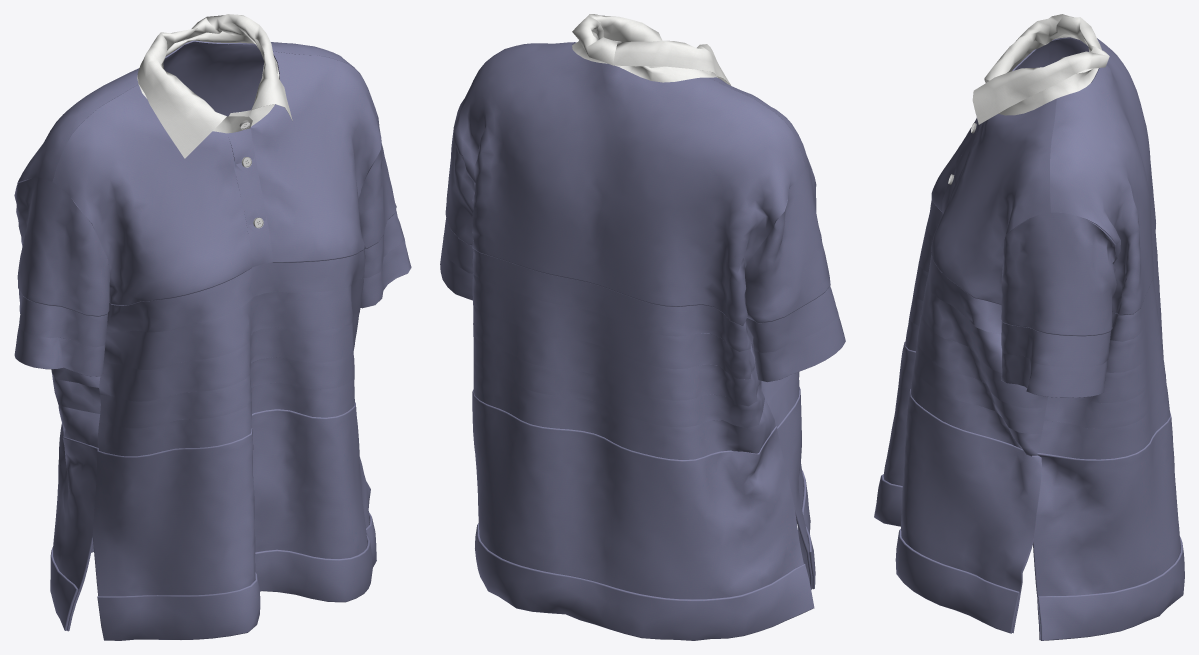
3 renders of one model, left to right at view 1: azimuth 30°, elevation 25°; view 2: azimuth 150°, elevation 25°; view 3: azimuth 270°, elevation 25°, orthographic. The views are drawn at different scales.
Parts seen in each view (by area): view 1: Pattern2D_3346071, Pattern2D_3477746, Pattern2D_3483599, Pattern2D_614027, Pattern2D_3424674, Pattern2D_420041, Pattern2D_3459562, Pattern2D_420052, Pattern2D_420022, Pattern2D_420074, Pattern2D_420063, Pattern2D_3462828 (+13 smaller); view 2: Pattern2D_3459562, Pattern2D_3462828, Pattern2D_614552, Pattern2D_430427, Pattern2D_501064, Pattern2D_430405, Pattern2D_3424674, Pattern2D_501049, Pattern2D_430416, Pattern2D_338536, Pattern2D_322252, Pattern2D_533010 (+8 smaller); view 3: Pattern2D_3346071, Pattern2D_3462828, Pattern2D_3459562, Pattern2D_3483599, Pattern2D_3420210, Pattern2D_614027, Pattern2D_614552, Pattern2D_430427, Pattern2D_533716, Pattern2D_420074, Pattern2D_420052, Pattern2D_420063 (+12 smaller).
Part boxes in pixels (x1,y1,x2,y2): Pattern2D_3346071: (92,402,370,596); Pattern2D_3477746: (53,84,251,305); Pattern2D_3483599: (250,51,381,262); Pattern2D_614027: (97,512,376,640); Pattern2D_3424674: (14,177,109,316); Pattern2D_420041: (103,278,363,369); Pattern2D_3459562: (17,40,362,183); Pattern2D_420052: (99,312,359,401); Pattern2D_420022: (106,249,365,332); Pattern2D_420074: (97,377,354,456); Pattern2D_420063: (99,341,355,428); Pattern2D_3462828: (53,424,98,590); Pattern2D_3459562: (453,42,805,325); Pattern2D_3462828: (472,389,803,599); Pattern2D_614552: (475,523,814,640); Pattern2D_430427: (473,359,775,459); Pattern2D_501064: (472,273,755,379); Pattern2D_430405: (473,302,760,406); Pattern2D_3424674: (745,167,830,323); Pattern2D_501049: (472,249,750,351); Pattern2D_430416: (473,333,764,428); Pattern2D_338536: (751,313,845,382); Pattern2D_322252: (746,286,838,352); Pattern2D_533010: (613,40,730,85); Pattern2D_3346071: (883,341,1041,592); Pattern2D_3462828: (1033,373,1180,596); Pattern2D_3459562: (1049,37,1155,315); Pattern2D_3483599: (931,98,1056,304); Pattern2D_3420210: (1000,212,1116,336); Pattern2D_614027: (874,474,1019,633); Pattern2D_614552: (1038,537,1184,640); Pattern2D_430427: (1038,339,1170,459); Pattern2D_533716: (972,45,1109,124); Pattern2D_420074: (905,318,1041,456); Pattern2D_420052: (913,263,1047,408); Pattern2D_420063: (909,293,1046,433).
Size of the model in its own units: 50.39 by 69.11 by 35.79.
